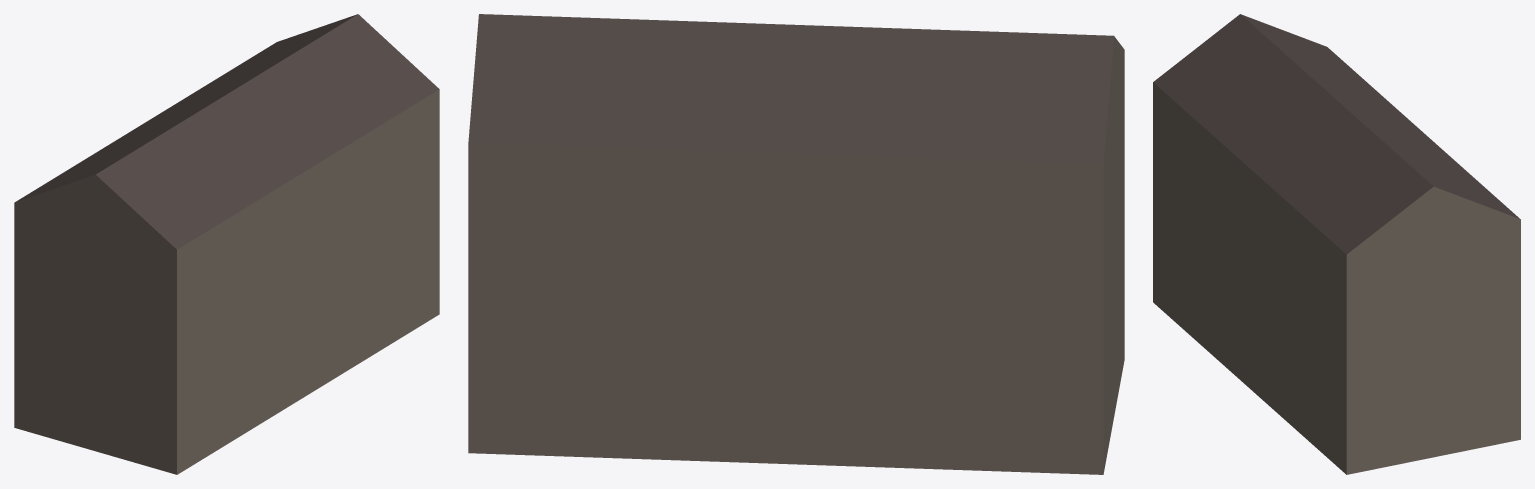
The picture shows the model from 3 angles, left to right: view 1: azimuth 30°, elevation 25°; view 2: azimuth 150°, elevation 25°; view 3: azimuth 270°, elevation 25°; orthographic projection. The views are drawn at different scales.
Visible parts, largest first — view 1: HP-w389701994; view 2: HP-w389701994; view 3: HP-w389701994.
Part boxes in pixels (x1=…): HP-w389701994: x1=14, y1=14, x2=439, y2=474; HP-w389701994: x1=468, y1=14, x2=1124, y2=474; HP-w389701994: x1=1153, y1=14, x2=1520, y2=474.
Size of the model in its own units: 12.14 by 7.38 by 9.08.
